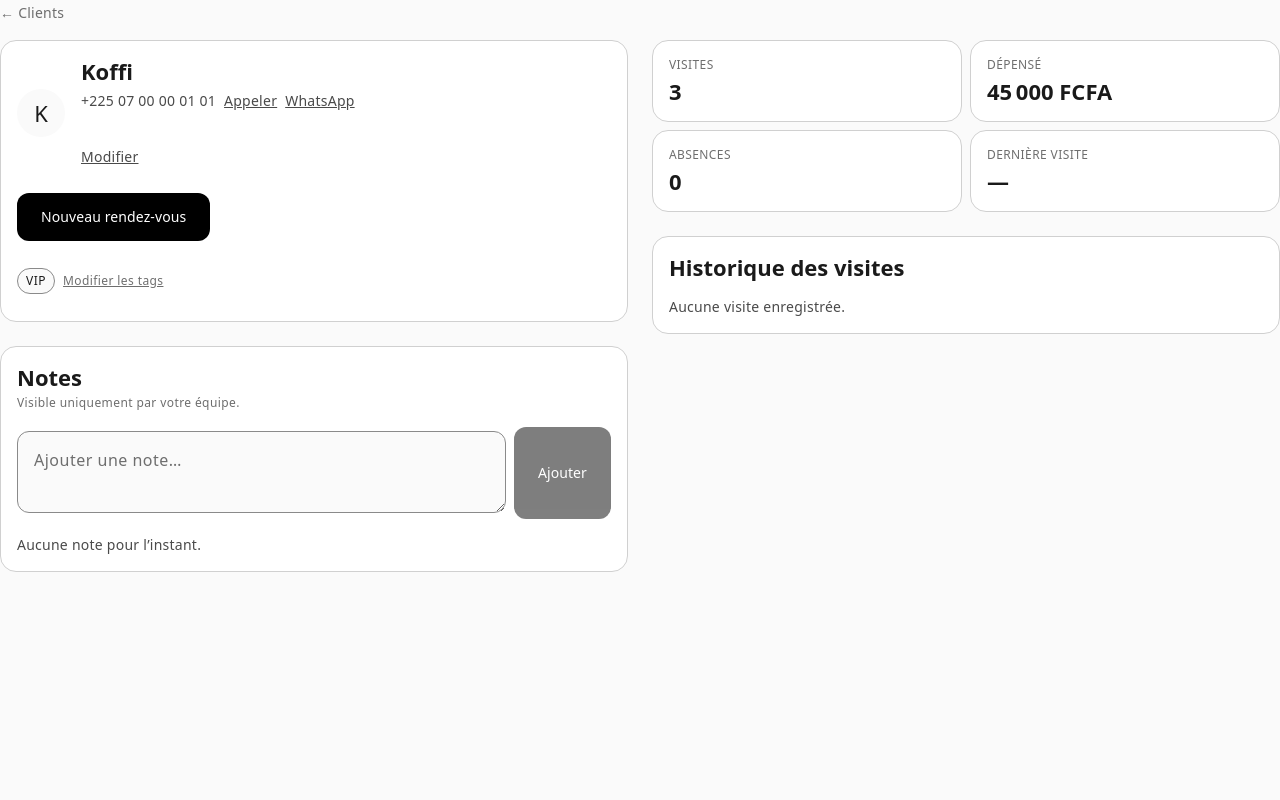
Test: ClientCardClient — « Modifier » the number of a GUEST card › the same number again is nothing to do — nothing is sent, the dialog closes
Expected: the heading "Koffi" is shown, [81, 56, 133, 86]
Click the button with aria-label "Modifier le numéro" at point(110, 157), box [81, 133, 138, 181]
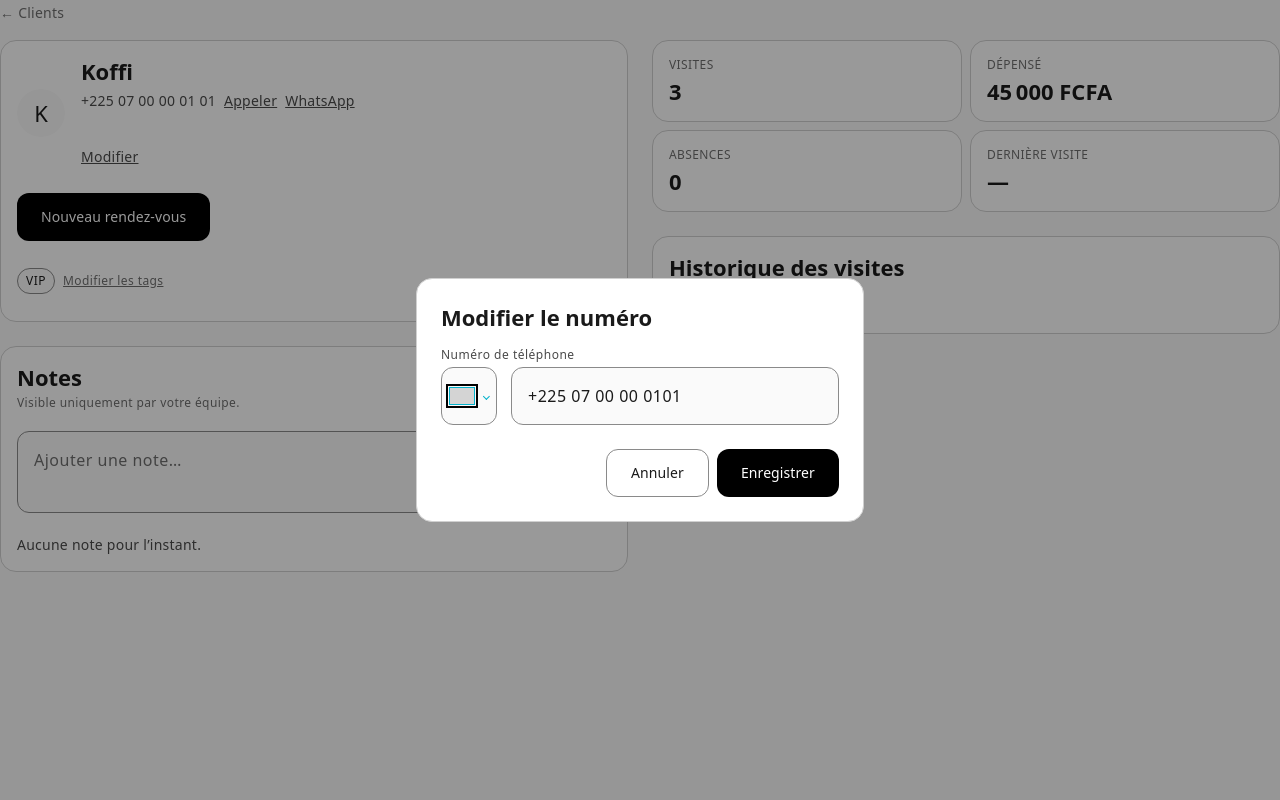
Click the button "Enregistrer" at point(778, 473), box [717, 449, 839, 497]
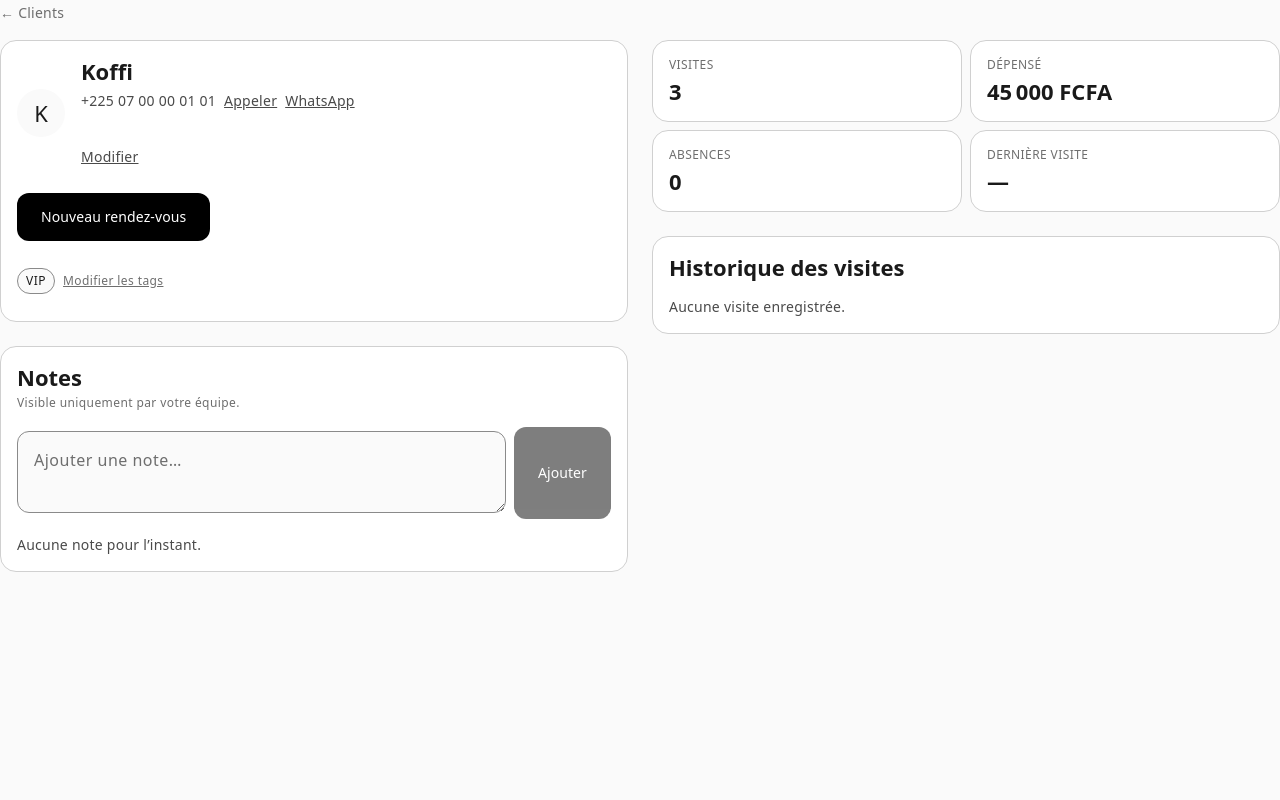
Result: the dialog is gone
